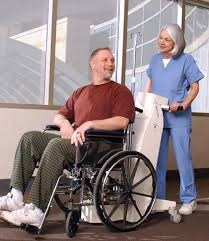wheelchair: (1, 47, 159, 237)
